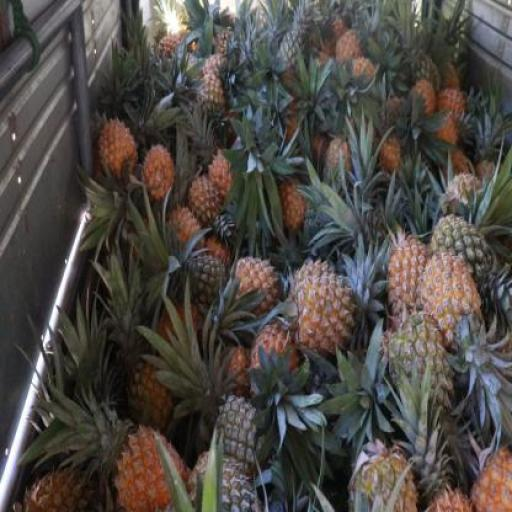------------------------------: (429, 214, 495, 328), (385, 314, 452, 424), (122, 362, 173, 437), (195, 74, 227, 134)
Pineapple - v8 v1: (420, 251, 482, 353), (114, 432, 192, 511), (292, 260, 355, 355), (387, 241, 436, 329), (99, 121, 139, 181), (236, 258, 278, 307), (189, 178, 227, 224), (145, 144, 174, 203)
